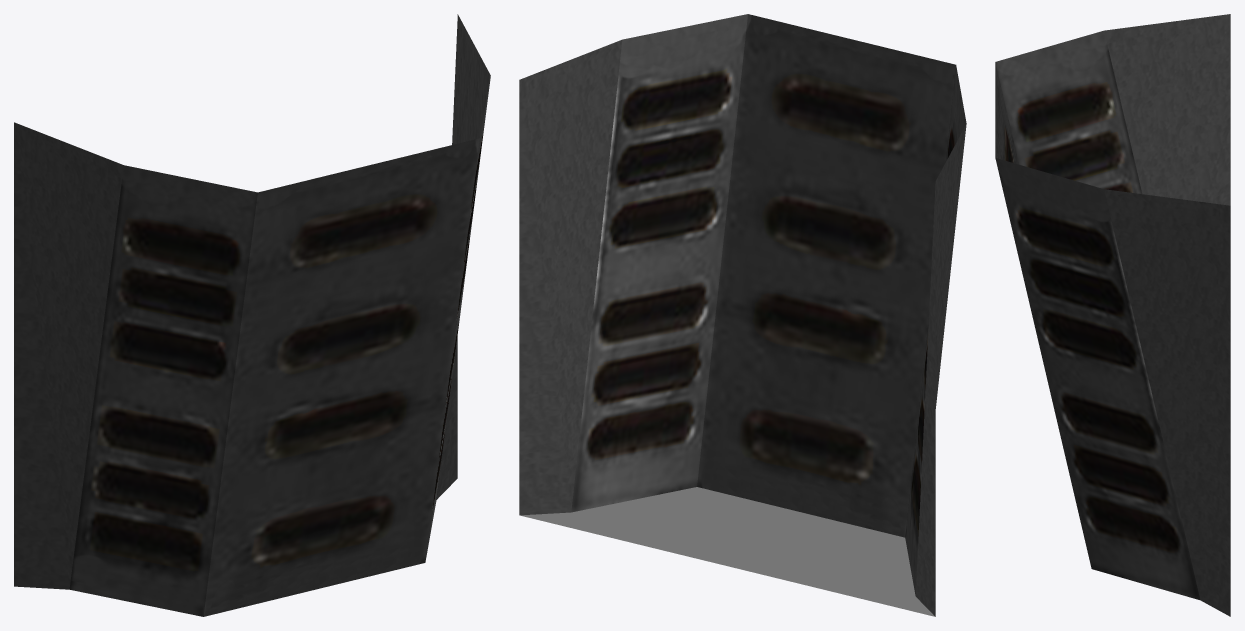
Rendered from CubeBaseFrontBackground4.fbx.
3 views of the same model, side by side, from view 1: azimuth 30°, elevation 25°; view 2: azimuth 150°, elevation 25°; view 3: azimuth 270°, elevation 25° (orthographic). The views are drawn at different scales.
Parts seen in each view (by area): view 1: pCube13; view 2: pCube13; view 3: pCube13.
Part boxes in pixels (x1,y1,x2,y2): pCube13: (14,14,490,616); pCube13: (519,14,966,616); pCube13: (995,14,1230,616).
Bounding box in the file's own units: 1 × 1 × 0.5187.
1 material, 1 textured.
